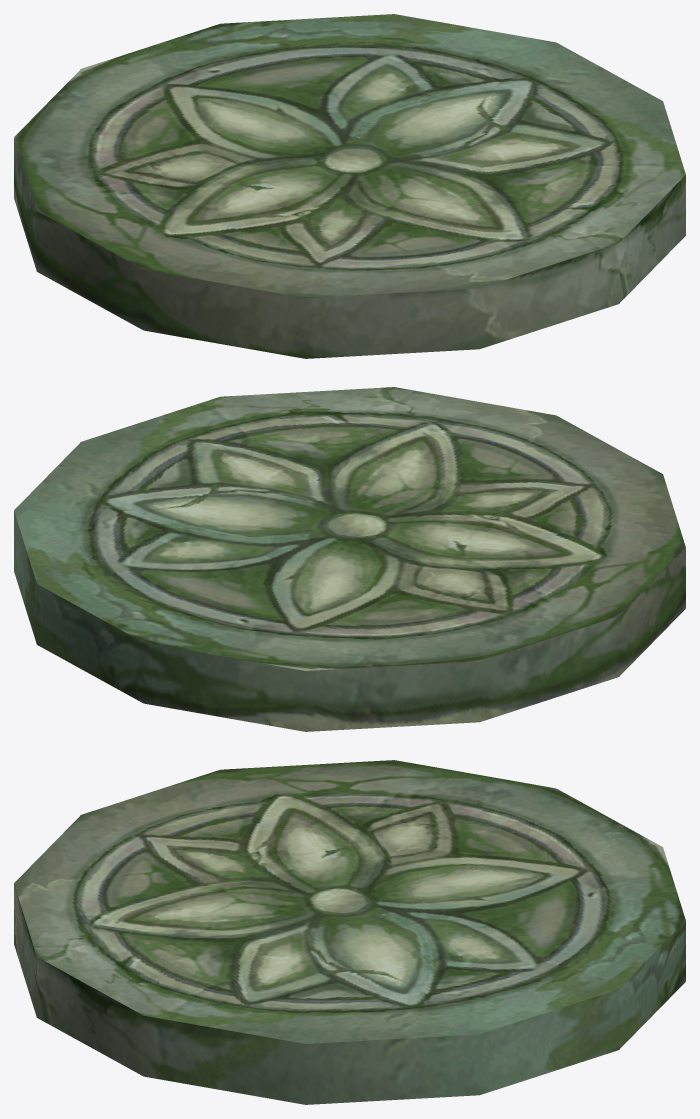
Rendered from 1001_Item_taizi_4.FBX.
3 renders of one model, top to bottom at view 1: azimuth 30°, elevation 25°; view 2: azimuth 150°, elevation 25°; view 3: azimuth 270°, elevation 25°, orthographic.
Visible parts, largest first — view 1: 1001_Item_taizi_4; view 2: 1001_Item_taizi_4; view 3: 1001_Item_taizi_4.
Part boxes in pixels (x1,y1,x2,y2): 1001_Item_taizi_4: [14, 14, 685, 358]; 1001_Item_taizi_4: [14, 387, 685, 731]; 1001_Item_taizi_4: [14, 760, 685, 1104].
Size of the model in its own units: 253 by 25.34 by 253.
